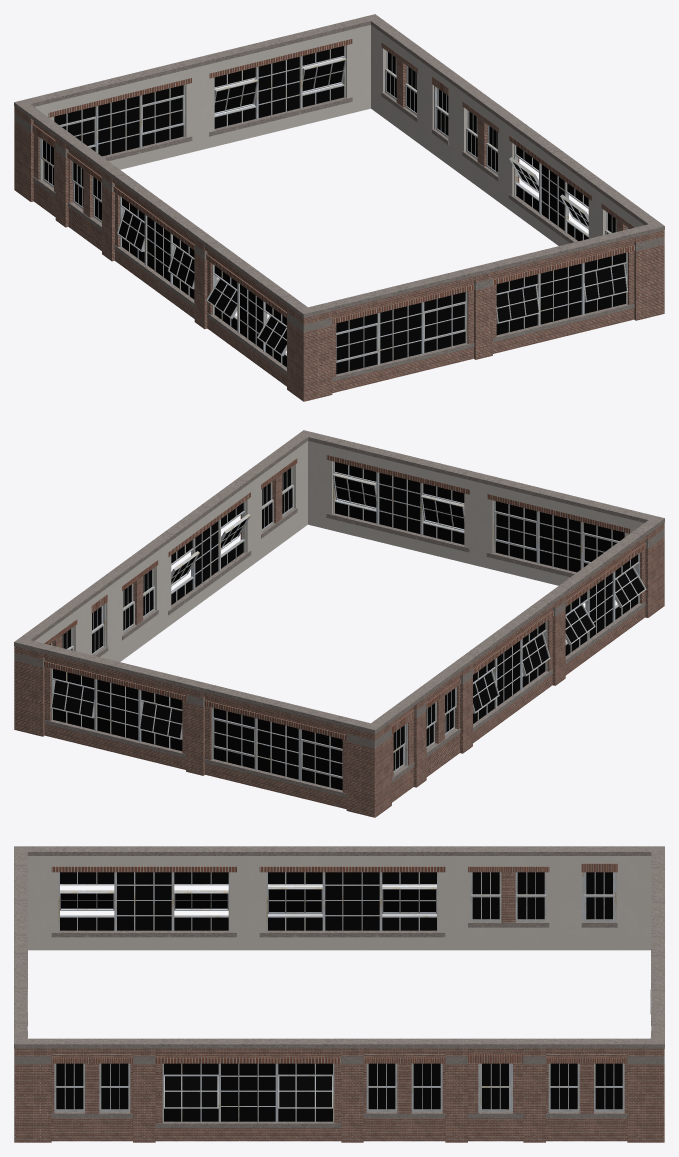
File: BuildingE_Top_VarA.fbx
3 views of the same model, one above another, from view 1: azimuth 30°, elevation 25°; view 2: azimuth 150°, elevation 25°; view 3: azimuth 270°, elevation 25° (orthographic). The views are drawn at different scales.
Visible parts, largest first — view 1: BuildingE_Top_VarA; view 2: BuildingE_Top_VarA; view 3: BuildingE_Top_VarA.
Boxes of the visible parts, x1=… form: BuildingE_Top_VarA: x1=14, y1=14, x2=664, y2=401; BuildingE_Top_VarA: x1=14, y1=430, x2=664, y2=817; BuildingE_Top_VarA: x1=14, y1=846, x2=664, y2=1142.
Bounding box in the file's own units: 1815 × 418 × 2502.
